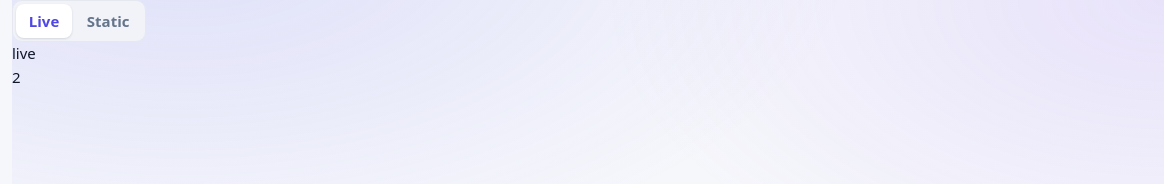
Scenario: DataSourceProvider (dual mode) › switches source when the user picks Static
This screenshot has width=1164, height=184.
Expected: the text with test id "count" reads "2", top-left (12, 67), bottom-right (21, 87)
What coordinates should you click on to do the following:
click the button "Static"
I would click on:
 (108, 21)
Its box is top-left (74, 4), bottom-right (142, 38).
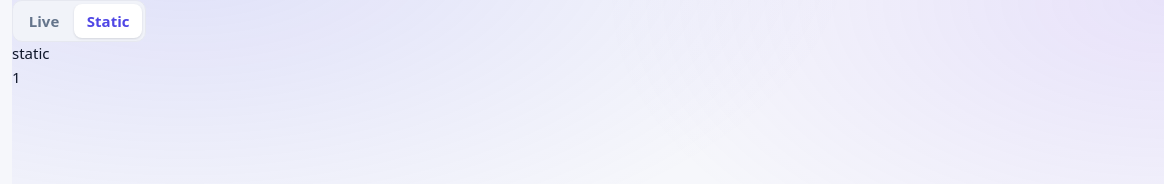
Expected: the text with test id "count" reads "1", top-left (12, 67), bottom-right (21, 87)
Expected: the text with test id "mode" reads "static", top-left (12, 43), bottom-right (50, 63)
